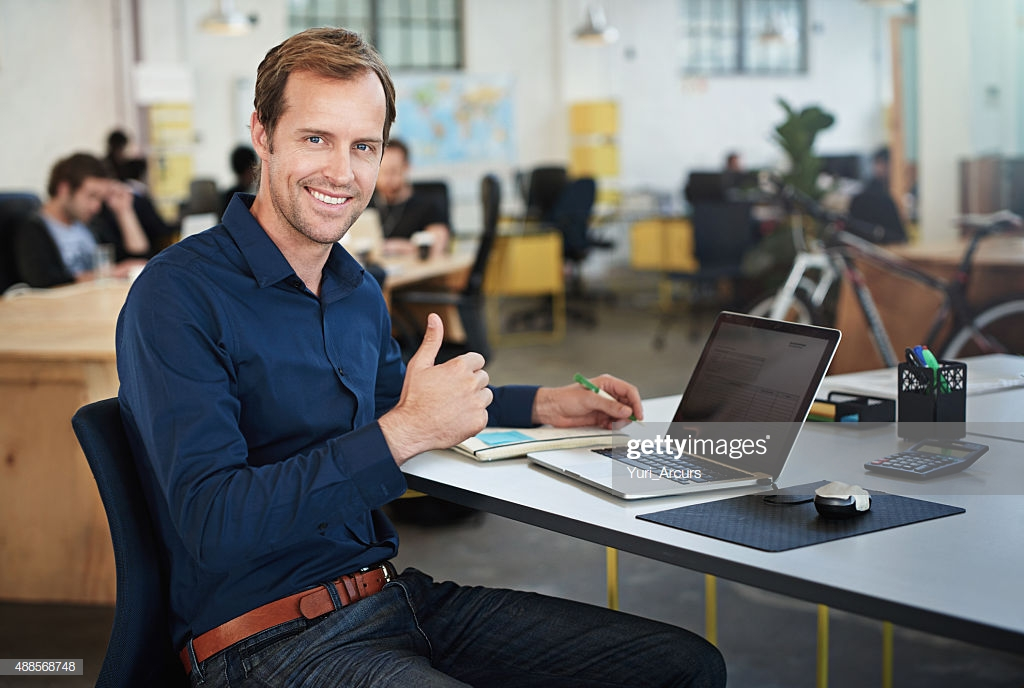thumbsup: (422, 310, 495, 451)
